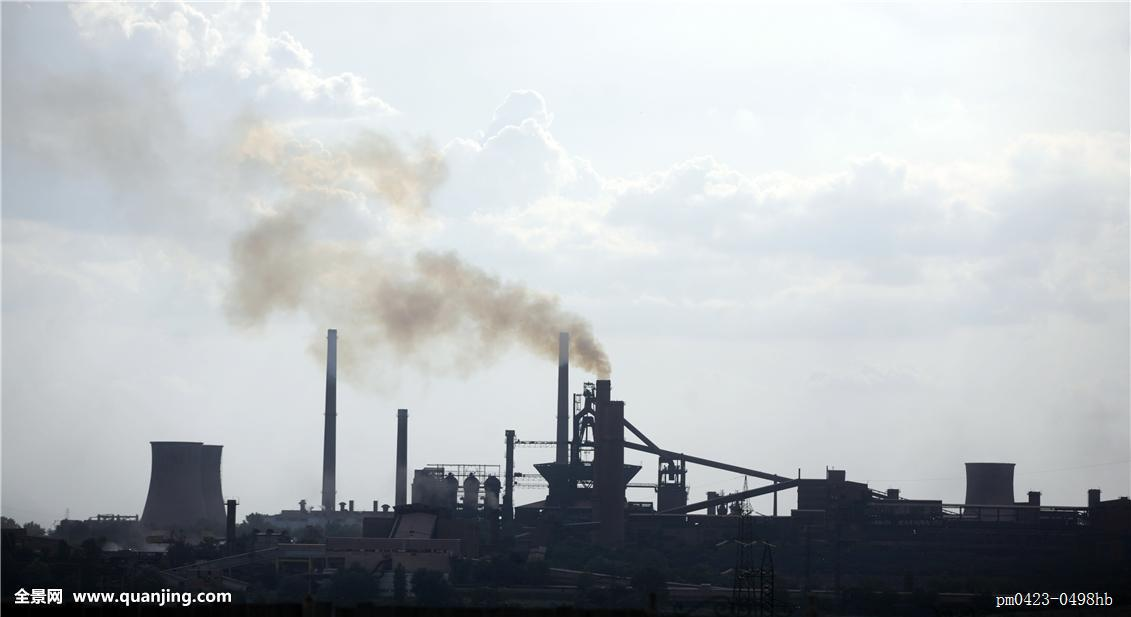dust: (379, 240, 620, 391)
